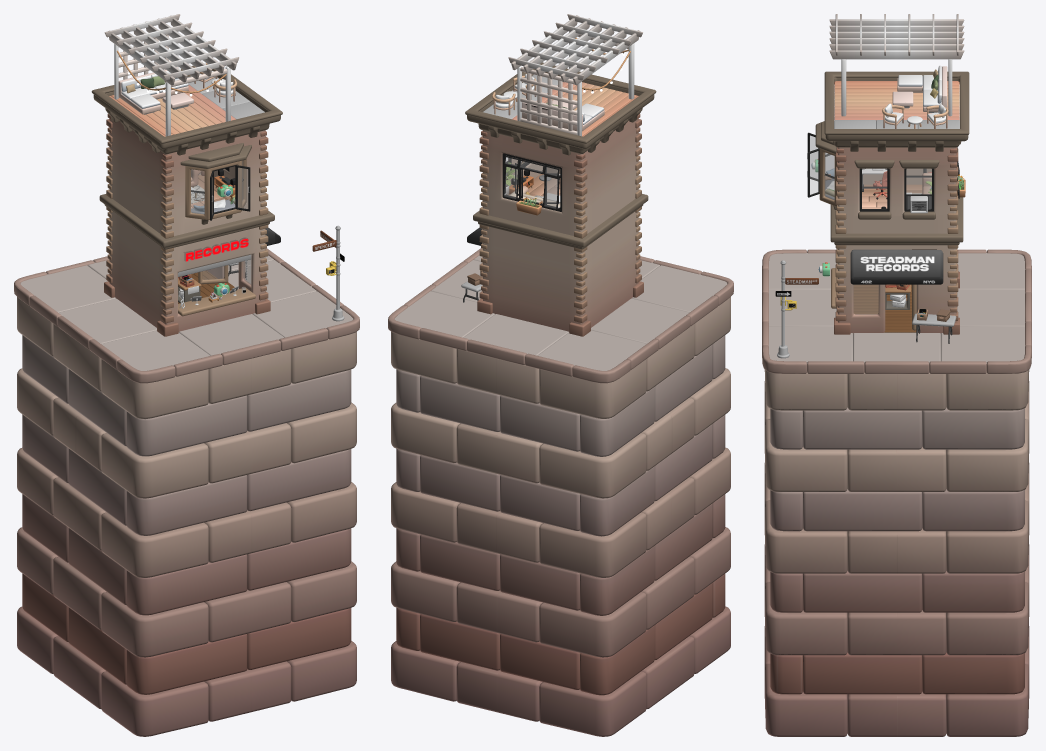
The model's file is apartment.glb.
3 views of the same model, side by side, from view 1: azimuth 30°, elevation 25°; view 2: azimuth 150°, elevation 25°; view 3: azimuth 270°, elevation 25° (orthographic). The views are drawn at different scales.
Parts seen in each view (by area): view 1: Cube.053, Cube.054, body, Plane.016, Cube.111, Cube.018, Cube.028, Cube.030, shop floor.001, Cube.016, Cube.021, Cube.017 (+8 smaller); view 2: Cube.053, Cube.054, body, Plane.016, Cube.111, Cube.018, Cube.028, Cube.030, Cube.021, Cube.016, Cube.017, Cube.027 (+4 smaller); view 3: Cube.053, Cube.054, Plane.016, body, Cube.111, Cube.028, shop, Cube.018, shop floor.001, Cube.021, Cube.016, Cube.017 (+12 smaller).
Boxes of the visible parts, x1=… form: Cube.053: x1=17, y1=297, x2=356, y2=736; Cube.054: x1=22, y1=335, x2=351, y2=694; body: x1=109, y1=119, x2=265, y2=331; Plane.016: x1=20, y1=255, x2=353, y2=370; Cube.111: x1=14, y1=248, x2=359, y2=383; Cube.018: x1=104, y1=113, x2=270, y2=336; Cube.028: x1=108, y1=15, x2=236, y2=85; Cube.030: x1=104, y1=14, x2=239, y2=80; shop floor.001: x1=109, y1=85, x2=235, y2=136; Cube.016: x1=99, y1=194, x2=274, y2=249; Cube.021: x1=91, y1=65, x2=282, y2=143; Cube.017: x1=93, y1=70, x2=280, y2=154; Cube.053: x1=391, y1=297, x2=730, y2=736; Cube.054: x1=396, y1=335, x2=725, y2=695; body: x1=482, y1=118, x2=638, y2=331; Plane.016: x1=394, y1=255, x2=727, y2=370; Cube.111: x1=388, y1=248, x2=733, y2=383; Cube.018: x1=477, y1=113, x2=643, y2=336; Cube.028: x1=511, y1=15, x2=640, y2=85; Cube.030: x1=508, y1=14, x2=642, y2=80; Cube.021: x1=465, y1=62, x2=656, y2=143; Cube.016: x1=473, y1=194, x2=648, y2=249; Cube.017: x1=467, y1=69, x2=654, y2=153; Cube.027: x1=520, y1=67, x2=577, y2=134; Cube.053: x1=764, y1=369, x2=1029, y2=736; Cube.054: x1=770, y1=407, x2=1024, y2=694; Plane.016: x1=768, y1=253, x2=1025, y2=363; body: x1=837, y1=147, x2=956, y2=333; Cube.111: x1=762, y1=249, x2=1031, y2=373; Cube.028: x1=829, y1=19, x2=964, y2=59; shop: x1=850, y1=249, x2=943, y2=284; Cube.018: x1=834, y1=147, x2=959, y2=334; shop floor.001: x1=834, y1=81, x2=959, y2=120; Cube.021: x1=824, y1=71, x2=969, y2=134; Cube.016: x1=830, y1=197, x2=963, y2=245; Cube.017: x1=825, y1=77, x2=968, y2=147.
Bounding box in the file's own units: 28.62 × 74.83 × 28.47.
Materials: 197 (52 with a texture image).
